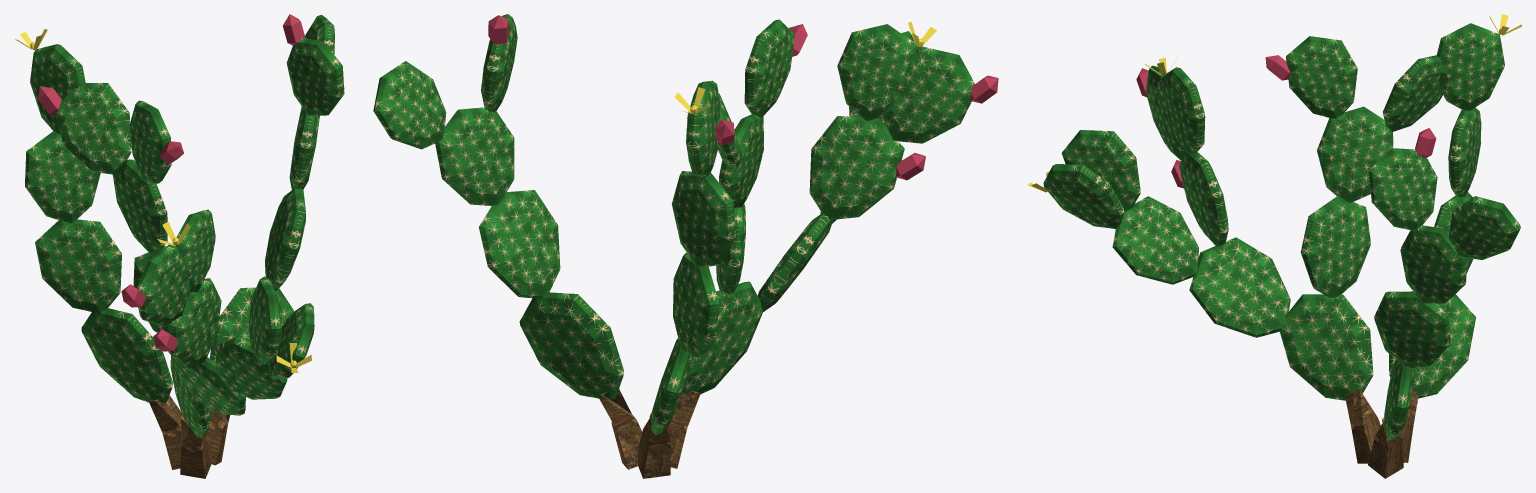
The model's file is prickly_pear_v01_LOD1.fbx.
3 views of the same model, side by side, from view 1: azimuth 30°, elevation 25°; view 2: azimuth 150°, elevation 25°; view 3: azimuth 270°, elevation 25° (orthographic). The views are drawn at different scales.
Visible parts, largest first — view 1: prickly_pear_v01_LOD1; view 2: prickly_pear_v01_LOD1; view 3: prickly_pear_v01_LOD1.
Part boxes in pixels (x1,y1,x2,y2): prickly_pear_v01_LOD1: (15,14,344,478); prickly_pear_v01_LOD1: (373,14,998,478); prickly_pear_v01_LOD1: (1027,14,1521,478).
Size of the model in its own units: 63.01 by 65 by 72.4.
Materials: 4 (2 with a texture image).
